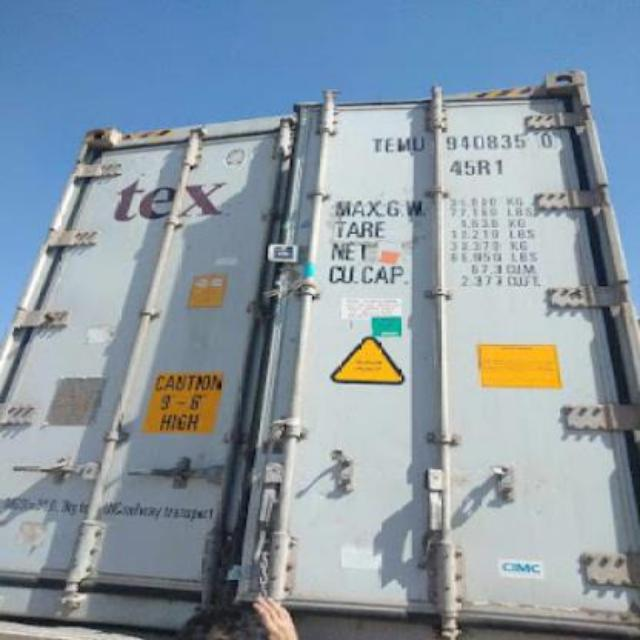0: (540, 128, 558, 152), (472, 130, 486, 154)
3: (498, 131, 514, 155)
4: (454, 127, 472, 153)
5: (510, 128, 530, 158)
8: (486, 129, 499, 155)
9: (440, 129, 456, 155)
E: (382, 130, 394, 160)
M: (394, 132, 412, 164)
T: (364, 132, 382, 158)
U: (412, 130, 430, 160)
